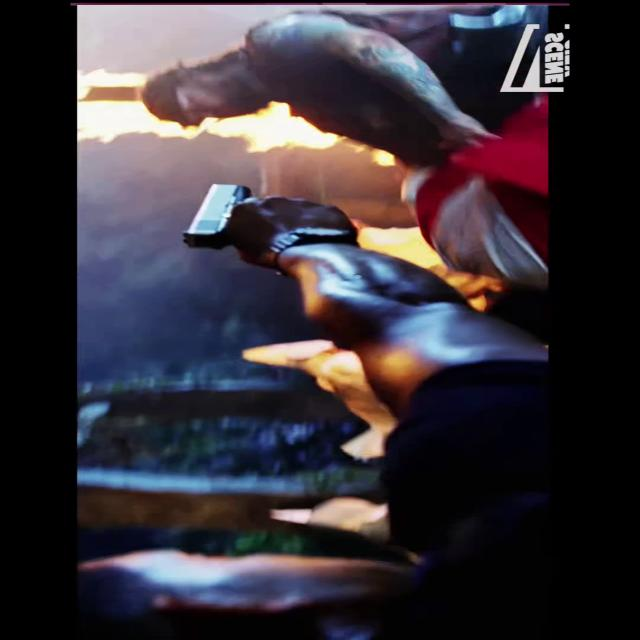weapons: (172, 172, 323, 260)
